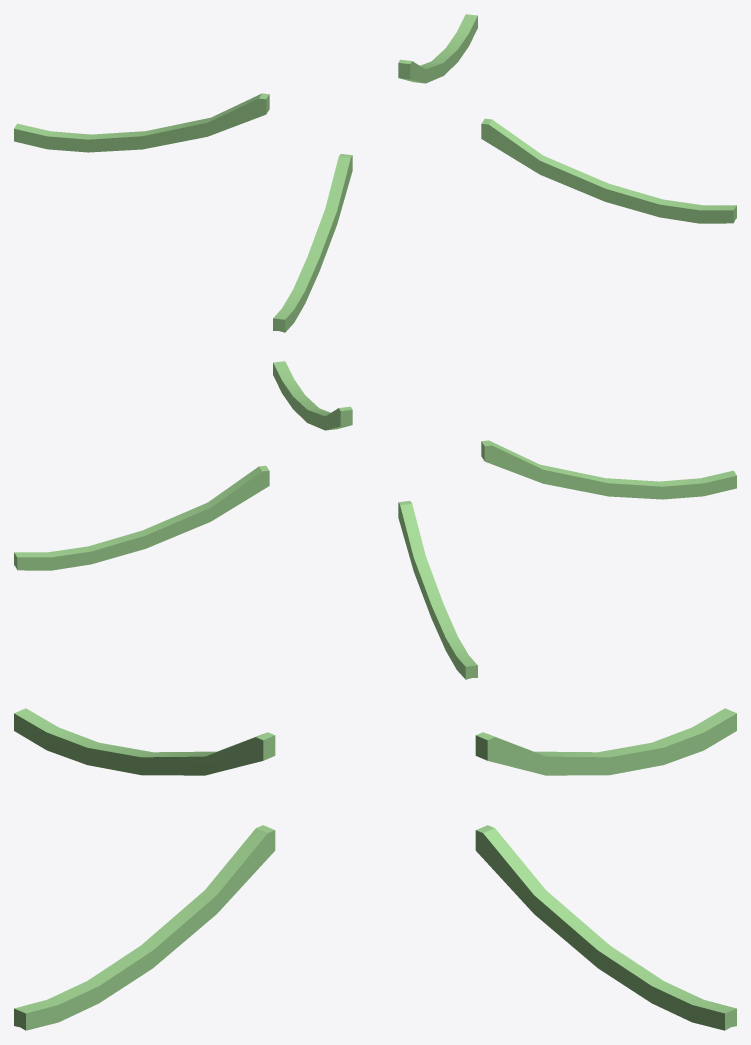
The model's file is ChinesePlaza.fbx.
3 renders of one model, top to bottom at view 1: azimuth 30°, elevation 25°; view 2: azimuth 150°, elevation 25°; view 3: azimuth 270°, elevation 25°, orthographic. The views are drawn at different scales.
Visible parts, largest first — view 1: Plane.002; view 2: Plane.002; view 3: Plane.002.
Part boxes in pixels (x1,y1,x2,y2): Plane.002: (14,14,736,332); Plane.002: (14,361,736,679); Plane.002: (14,708,736,1030).
Size of the model in its own units: 912 by 141 by 913.
